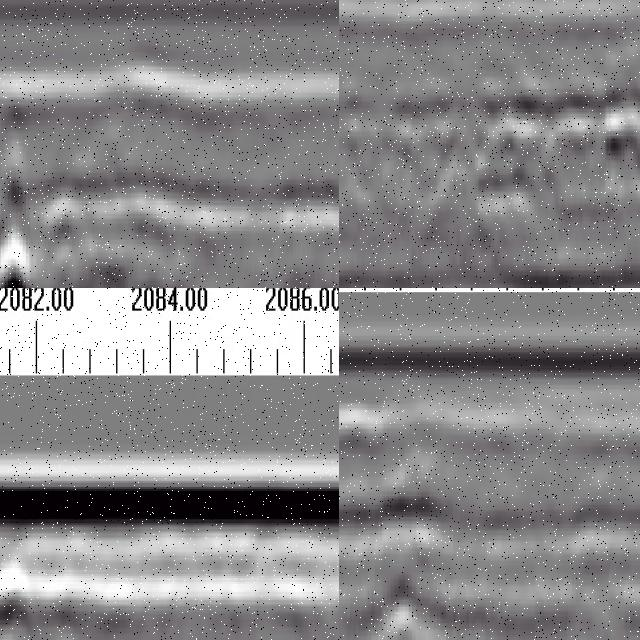crack: (383, 434, 433, 640), (1, 86, 37, 289)
loose: (363, 71, 640, 208), (43, 168, 340, 289), (1, 562, 125, 640)
